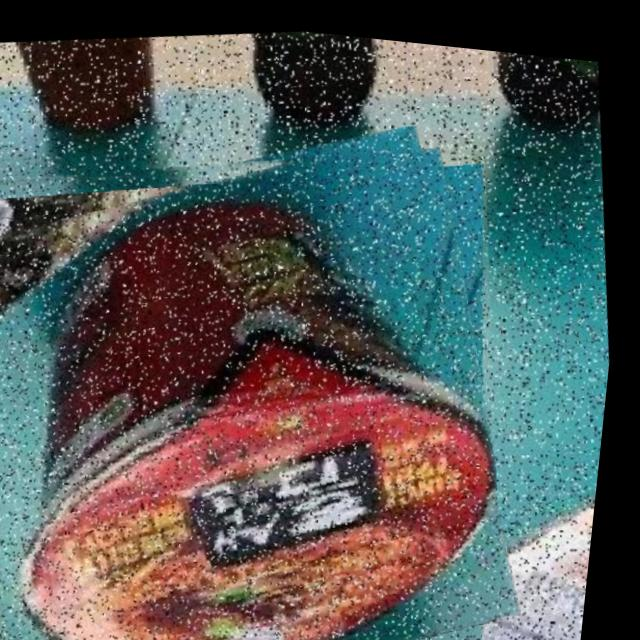Miscellaneous: (0, 91, 559, 640)
